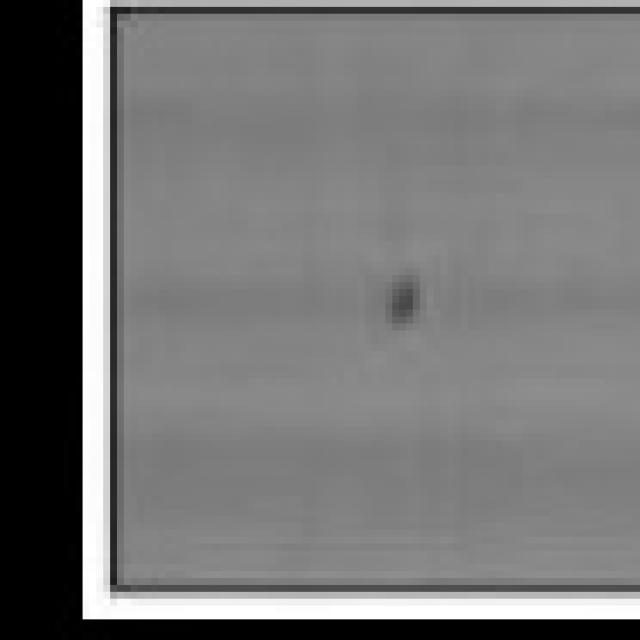Defect2: (350, 242, 442, 336)
